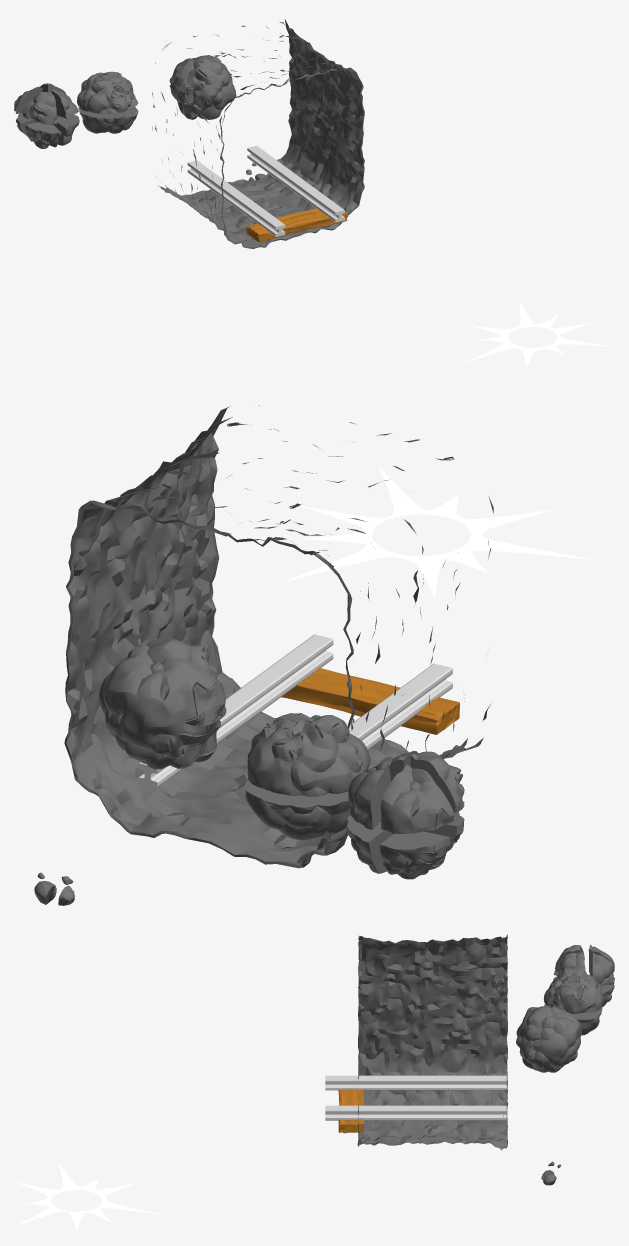
The model's file is rock-mine.glb.
3 views of the same model, one above another, from view 1: azimuth 30°, elevation 25°; view 2: azimuth 150°, elevation 25°; view 3: azimuth 270°, elevation 25° (orthographic). The views are drawn at different scales.
Visible parts, largest first — view 1: tunnel, rail-metal, rock-1, rock-3, rock-2, flash, rail-tie; view 2: tunnel, rock-1, rock-2, rock-3, rail-metal, flash, rail-tie; view 3: tunnel, rail-metal, rock-1, rock-2, flash, rock-3, rail-tie.
Boxes of the visible parts, bbox=[...] form: tunnel: bbox=[152, 19, 364, 248]; rail-metal: bbox=[187, 146, 344, 236]; rock-1: bbox=[169, 55, 236, 119]; rock-3: bbox=[14, 83, 79, 148]; rock-2: bbox=[77, 71, 138, 133]; flash: bbox=[465, 299, 613, 368]; rail-tie: bbox=[246, 208, 347, 242]; tunnel: bbox=[64, 405, 493, 868]; rock-1: bbox=[99, 637, 226, 769]; rock-2: bbox=[244, 712, 370, 840]; rock-3: bbox=[346, 750, 464, 879]; rail-metal: bbox=[138, 634, 452, 787]; flash: bbox=[281, 466, 593, 597]; rail-tie: bbox=[281, 667, 459, 734]; tunnel: bbox=[357, 934, 508, 1150]; rail-metal: bbox=[325, 1075, 506, 1120]; rock-1: bbox=[516, 1006, 581, 1072]; rock-2: bbox=[543, 967, 603, 1035]; flash: bbox=[15, 1162, 162, 1230]; rock-3: bbox=[553, 944, 614, 1006]; rail-tie: bbox=[338, 1089, 363, 1133].
Bounding box in the file's own units: 12.92 × 7.14 × 19.89.
